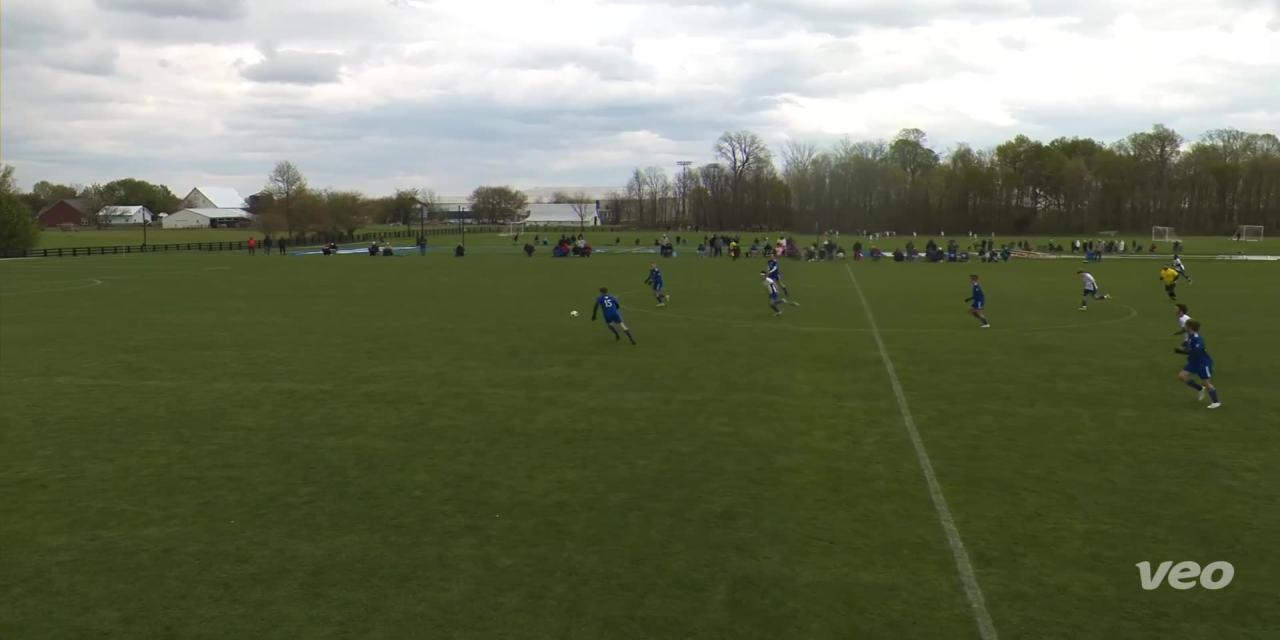sports ball: (564, 306, 587, 322)
